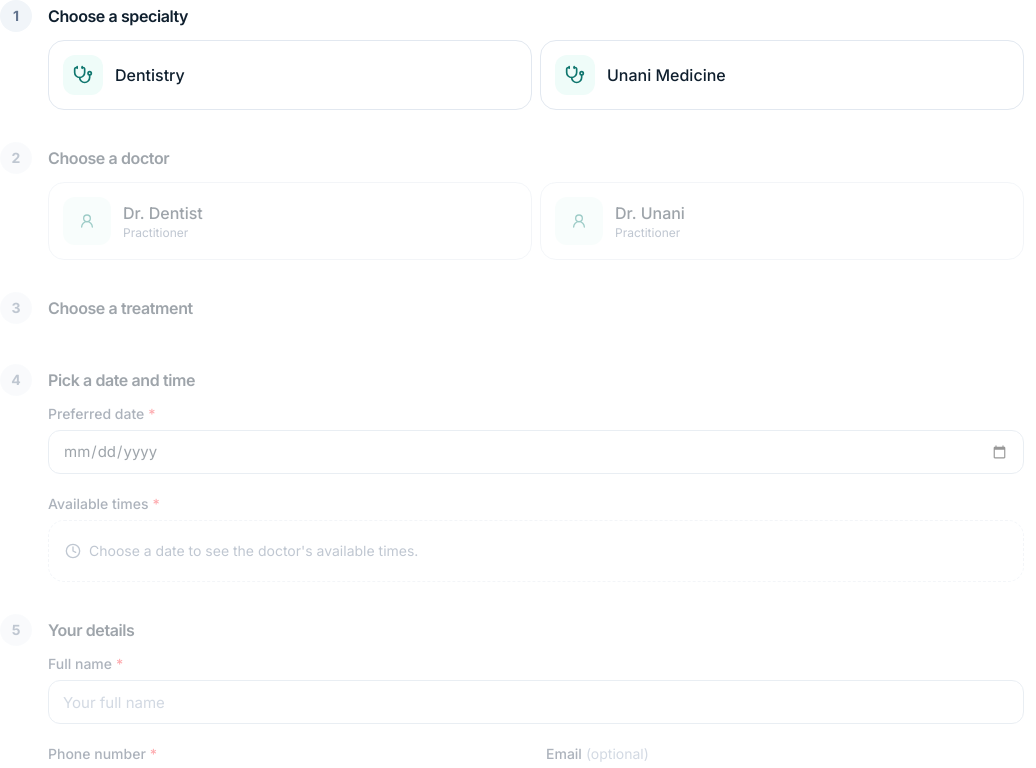
AppointmentForm (multi-doctor booking) › only offers the selected doctor's services
Click the button "Unani Medicine".
click(575, 75)  # box [540,40,1024,110]
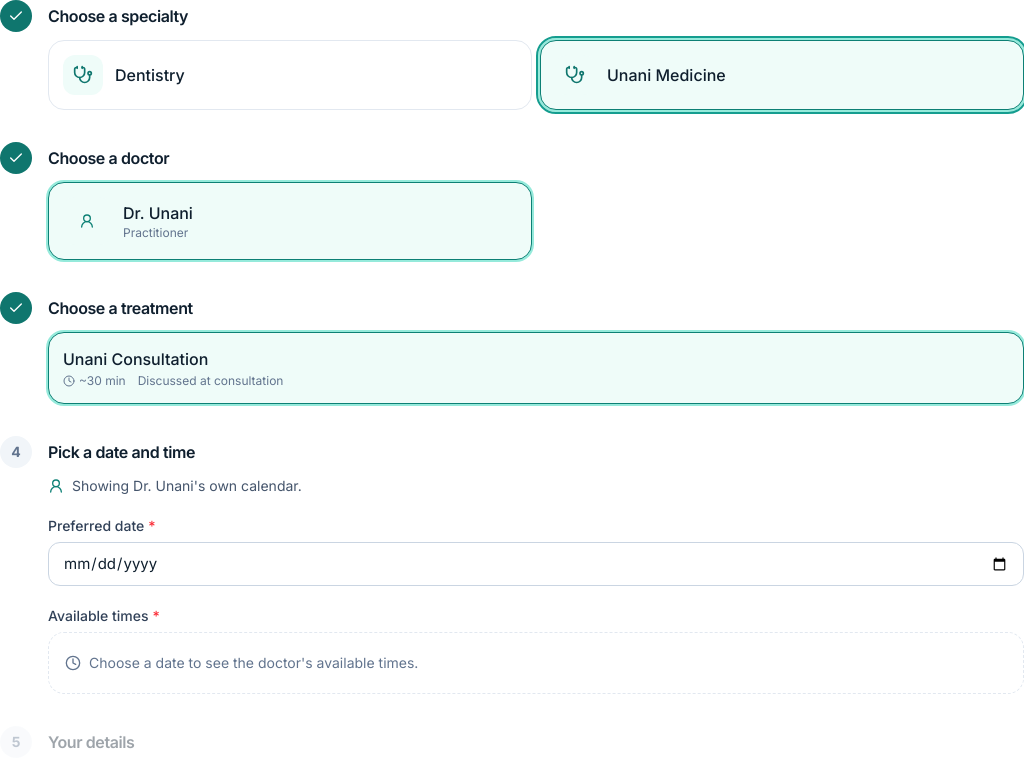
Expected: the button "Unani Consultation" is shown, [48,332,1024,404]
